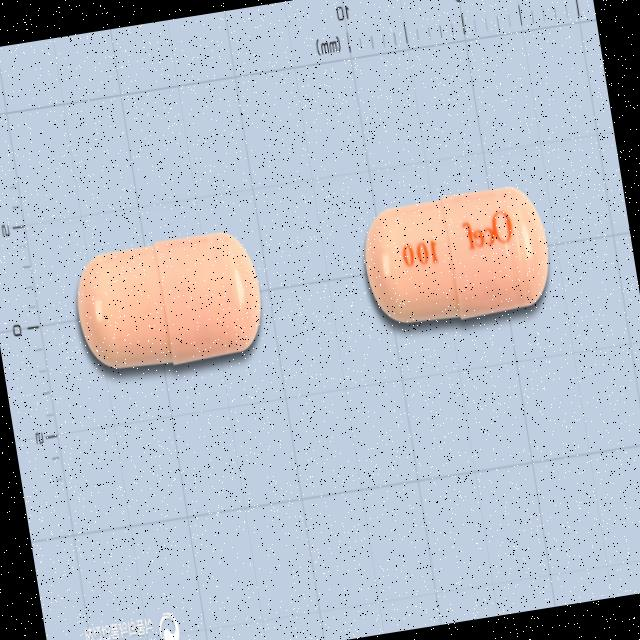Omnicef Cap: (356, 180, 558, 335)
